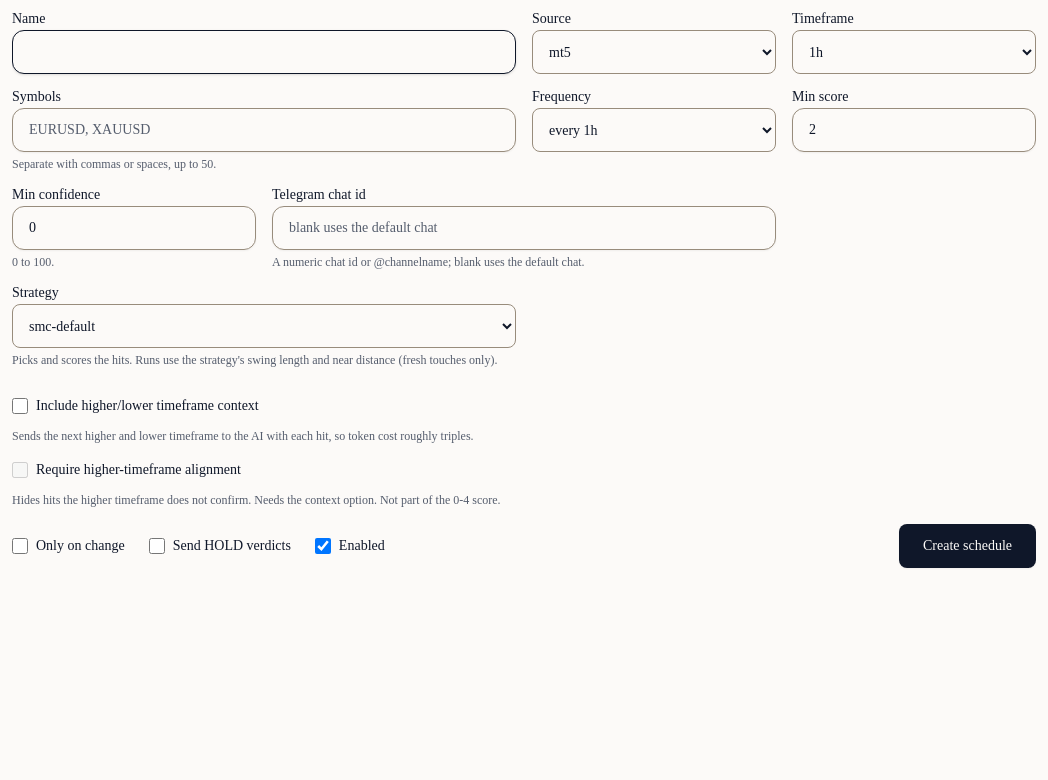
ScheduleForm › shows each field error next to its field and keeps the typed values
Click the button "Create schedule" at (968, 546), box [899,524,1036,568]
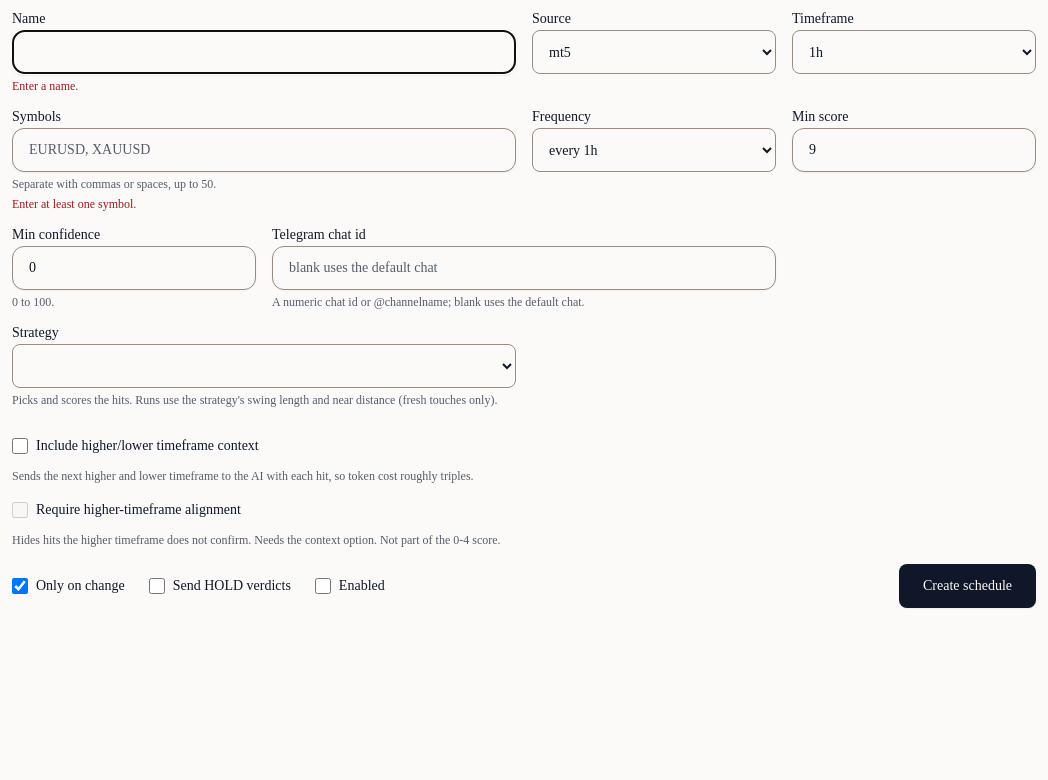
Check: the number field labelled "Min score" holds "9", box [792,128,1036,172]
Check: the checkbox labelled "Only on change" is checked, box [12,578,28,594]
Check: the checkbox labelled "Enabled" is not checked, box [315,578,331,594]
